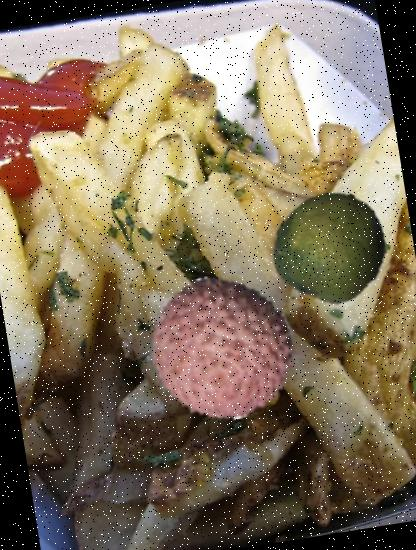Limes: (268, 183, 396, 311)
Lychee: (138, 264, 306, 432)
